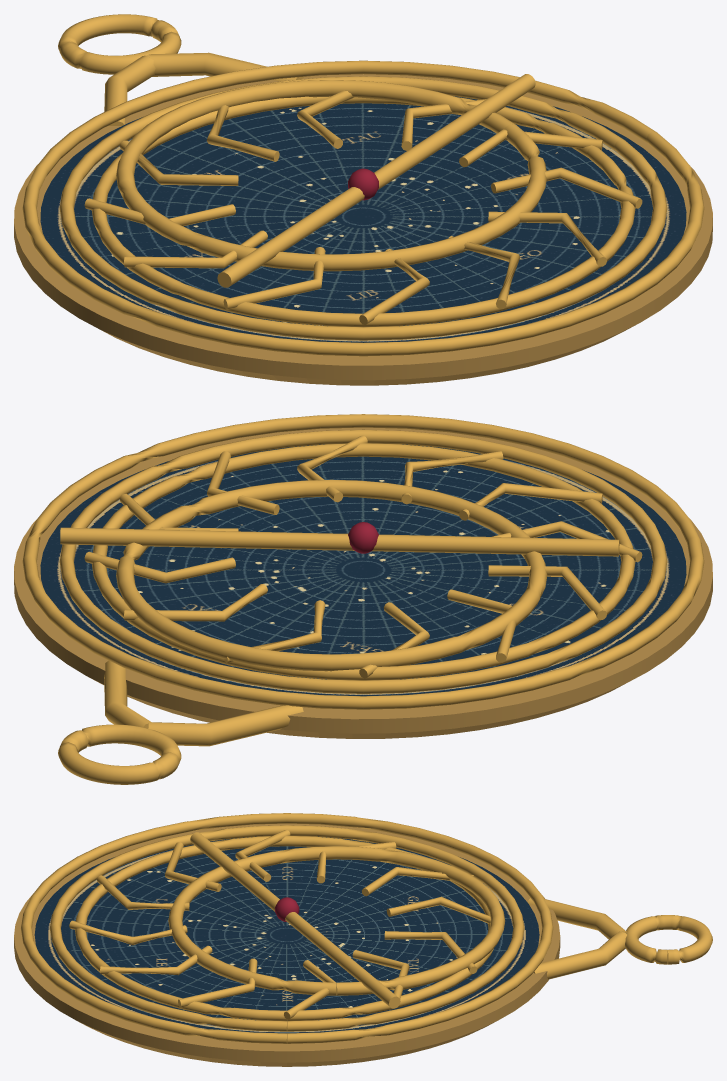
File: astrolabe.fbx
3 renders of one model, top to bottom at view 1: azimuth 30°, elevation 25°; view 2: azimuth 150°, elevation 25°; view 3: azimuth 270°, elevation 25°, orthographic. The views are drawn at different scales.
Visible parts, largest first — view 1: astrolabe joinery; view 2: astrolabe joinery; view 3: astrolabe joinery.
Boxes of the visible parts, x1=… form: astrolabe joinery: x1=14, y1=14, x2=712, y2=385; astrolabe joinery: x1=14, y1=414, x2=712, y2=784; astrolabe joinery: x1=14, y1=813, x2=712, y2=1066.
Size of the model in its own units: 0.132 by 0.016 by 0.1689.
Materials: 4 (1 with a texture image).
